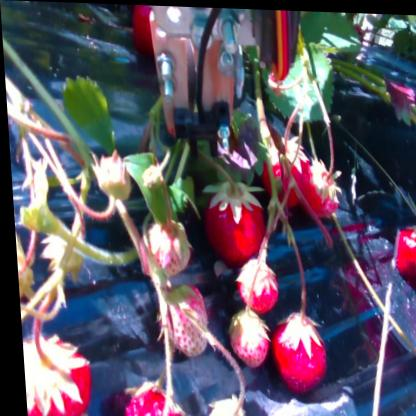ripe: (18, 339, 92, 416), (205, 191, 260, 257), (271, 317, 320, 388), (295, 164, 336, 215), (105, 385, 172, 416), (259, 153, 299, 203), (396, 224, 416, 275), (414, 238, 416, 292)
unripe: (156, 285, 206, 350), (141, 215, 196, 273), (231, 267, 277, 314), (223, 313, 268, 361)
